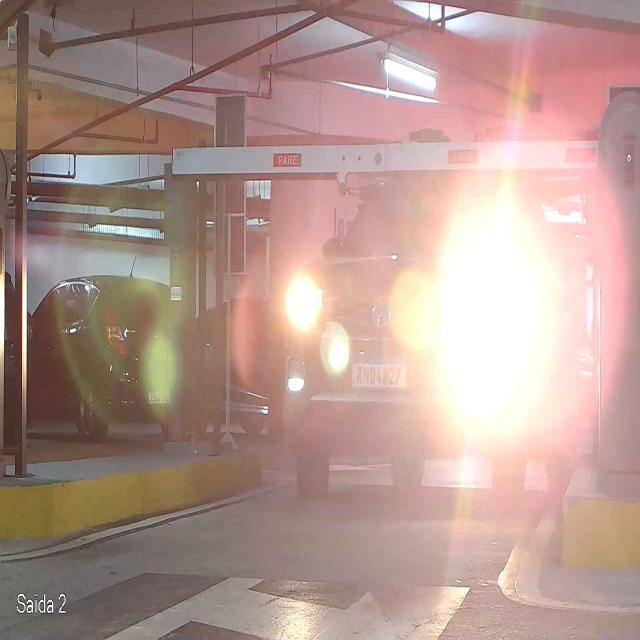mercosul_plate: (350, 353, 409, 389)
